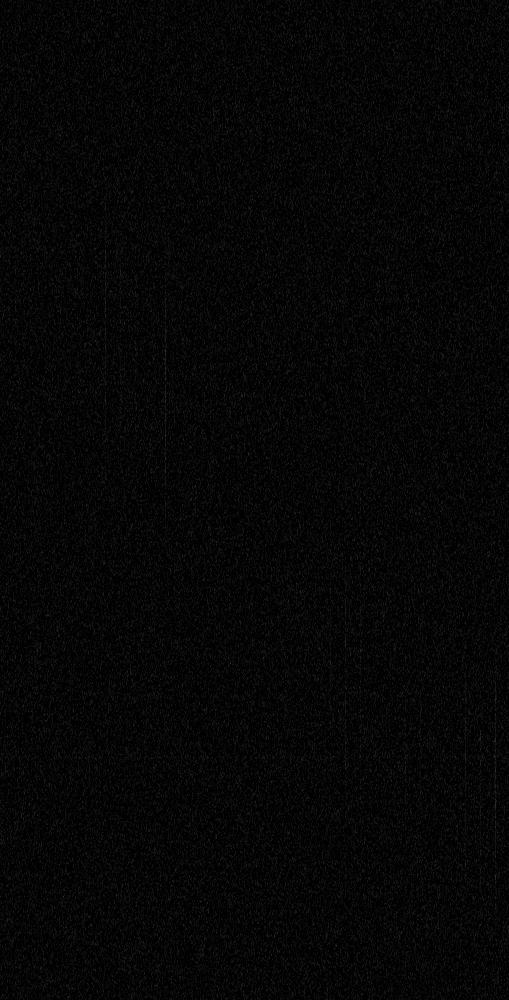signal: (0, 0, 508, 999)
